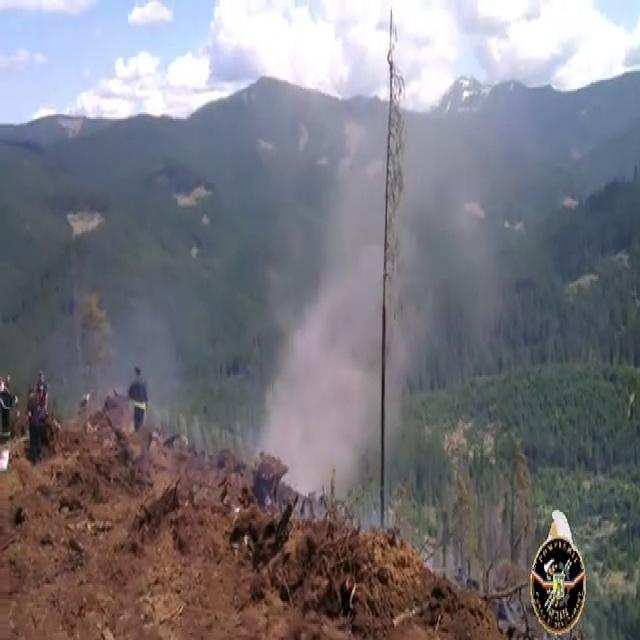Smoke: (237, 29, 549, 564)
